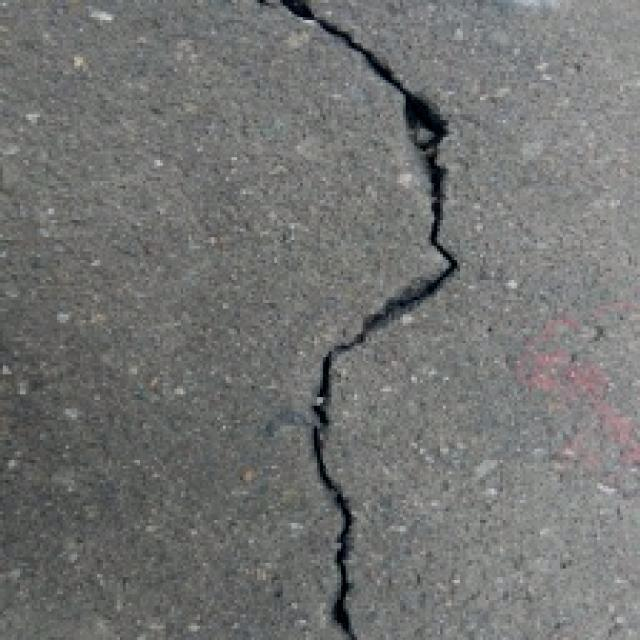crack: (246, 0, 488, 640)
